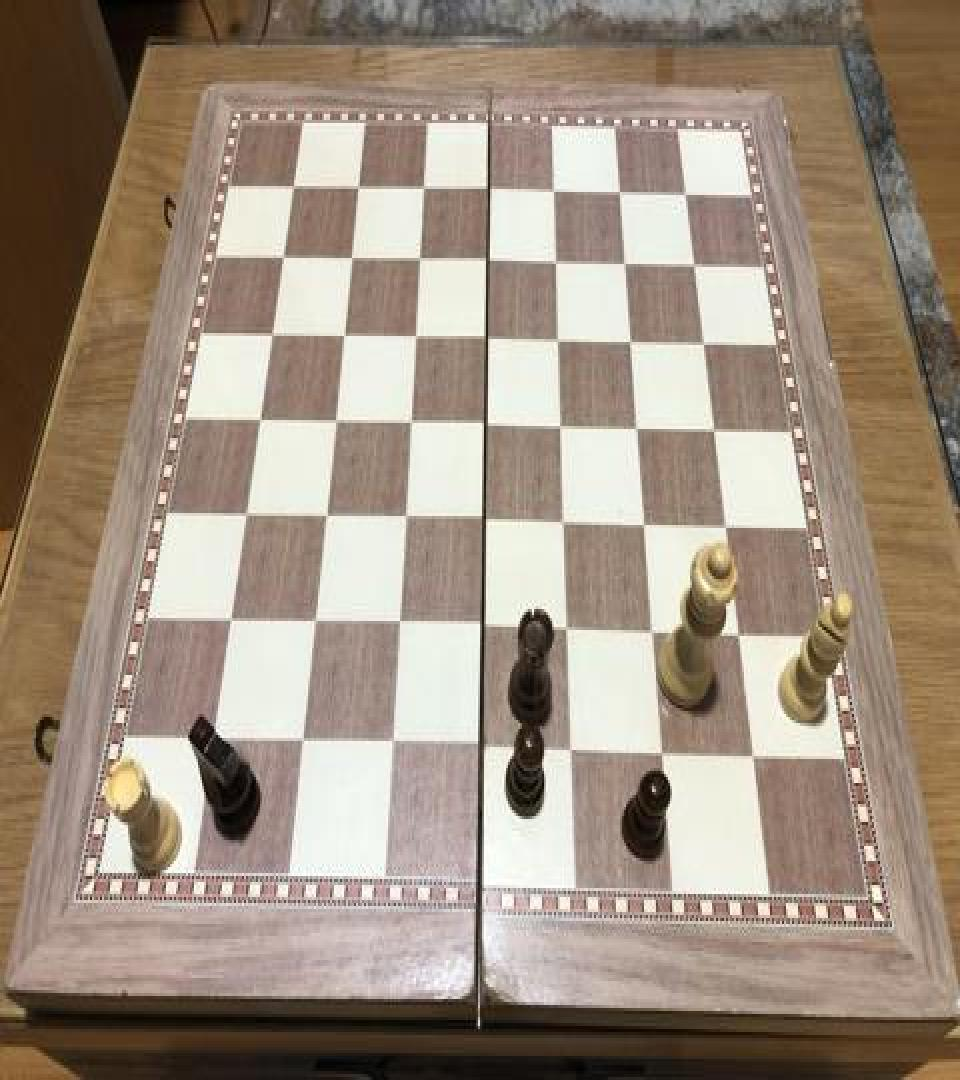xcorner: (741, 739, 765, 776), (469, 733, 493, 770), (673, 176, 697, 212), (608, 174, 632, 210), (411, 171, 435, 207), (346, 170, 370, 206), (281, 168, 305, 204), (682, 246, 706, 282), (613, 246, 637, 282), (544, 244, 568, 280), (476, 243, 500, 279), (407, 242, 431, 278), (339, 240, 363, 276), (270, 238, 294, 274), (691, 326, 715, 362), (619, 324, 643, 360), (547, 322, 571, 358), (475, 321, 499, 357), (403, 320, 427, 356), (331, 318, 355, 354), (259, 316, 283, 352), (625, 411, 649, 447), (549, 410, 573, 446), (473, 408, 497, 444), (398, 406, 422, 442), (322, 405, 346, 441), (246, 404, 270, 440), (713, 508, 737, 544), (633, 507, 657, 543), (552, 506, 576, 542), (472, 504, 496, 540), (392, 502, 416, 538), (312, 501, 336, 537), (232, 498, 256, 534), (726, 618, 750, 654), (641, 615, 665, 651), (556, 614, 580, 650), (471, 612, 495, 648), (386, 609, 410, 645), (301, 608, 325, 644), (217, 606, 241, 642), (650, 738, 674, 774), (559, 735, 583, 771), (379, 730, 403, 766), (289, 729, 313, 765), (199, 726, 223, 762), (542, 173, 566, 208), (477, 173, 501, 208), (702, 413, 726, 448)
